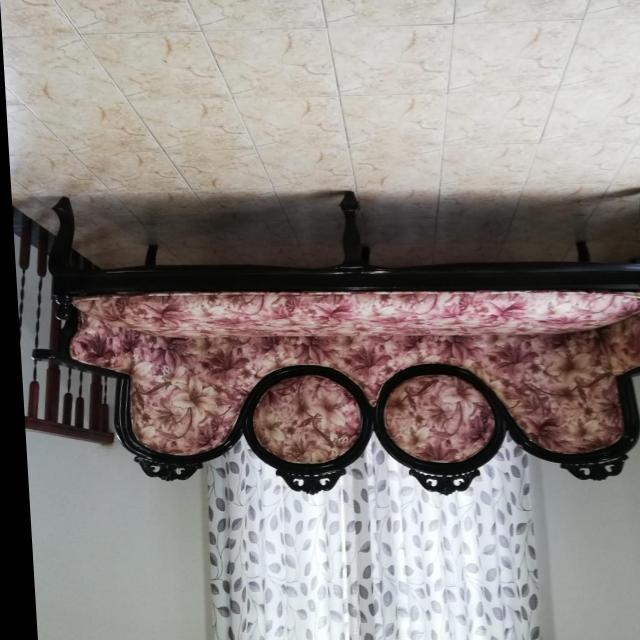Sofa: (26, 190, 640, 496)
